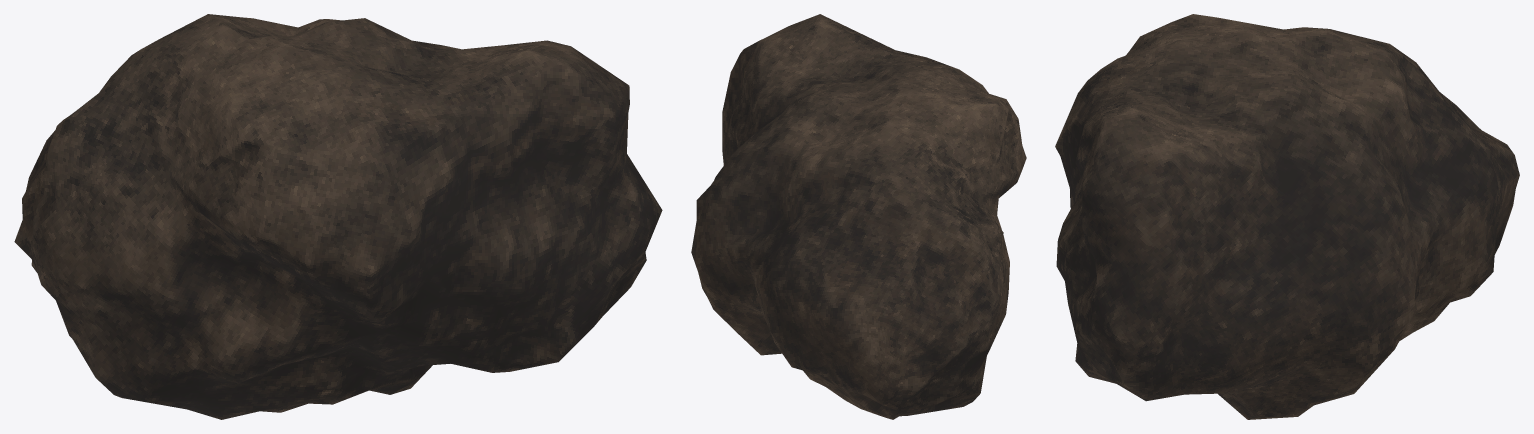
The model's file is SM_RP2_Rock_8m_5.002.glb.
3 views of the same model, side by side, from view 1: azimuth 30°, elevation 25°; view 2: azimuth 150°, elevation 25°; view 3: azimuth 270°, elevation 25° (orthographic). The views are drawn at different scales.
Visible parts, largest first — view 1: SM_RP2_Rock_8m_5.002; view 2: SM_RP2_Rock_8m_5.002; view 3: SM_RP2_Rock_8m_5.002.
Boxes of the visible parts, x1,y1,x2,y2 form: SM_RP2_Rock_8m_5.002: (14,14,662,419); SM_RP2_Rock_8m_5.002: (691,14,1026,419); SM_RP2_Rock_8m_5.002: (1055,14,1519,419).
Bounding box in the file's own units: 11 × 8.07 × 10.16.
Materials: 1 (1 with a texture image).
